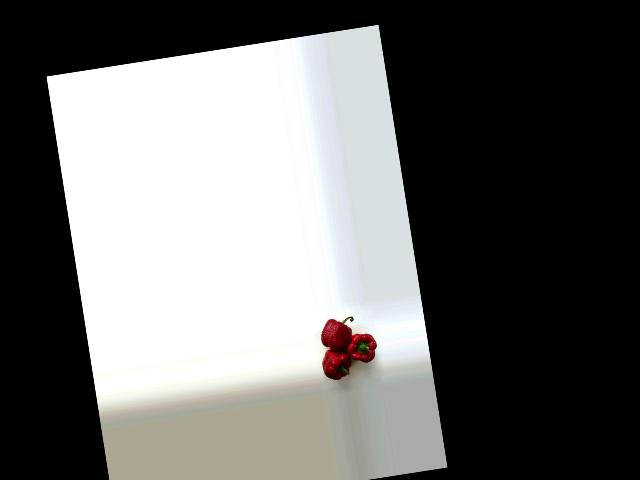bell_pepper: (315, 308, 359, 350)
